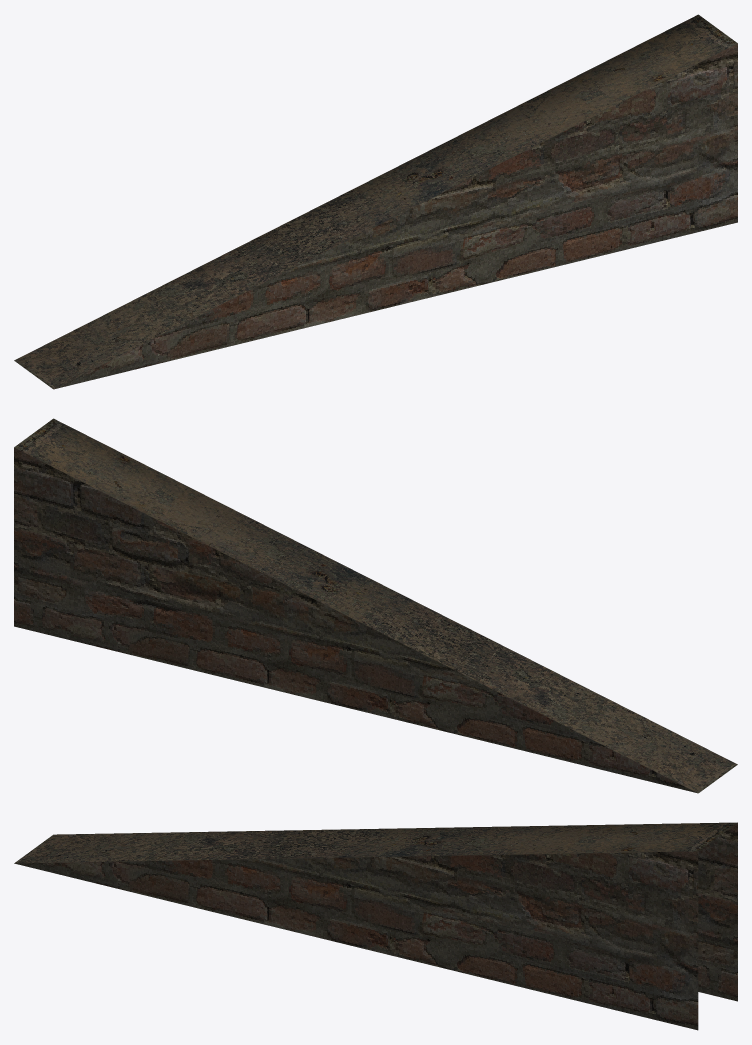
File: wall_top_part_hr_1.glb
The picture shows the model from 3 angles, top to bottom: view 1: azimuth 30°, elevation 25°; view 2: azimuth 150°, elevation 25°; view 3: azimuth 330°, elevation 25°; orthographic projection.
Visible parts, largest first — view 1: wall_top_part_hr_1; view 2: wall_top_part_hr_1; view 3: wall_top_part_hr_1.
Boxes of the visible parts, x1,y1,x2,y2 form: wall_top_part_hr_1: (14, 14, 737, 389); wall_top_part_hr_1: (14, 418, 737, 793); wall_top_part_hr_1: (14, 822, 737, 1030).
Size of the model in its own units: 4 by 1 by 0.4.
Materials: 2 (2 with a texture image).
